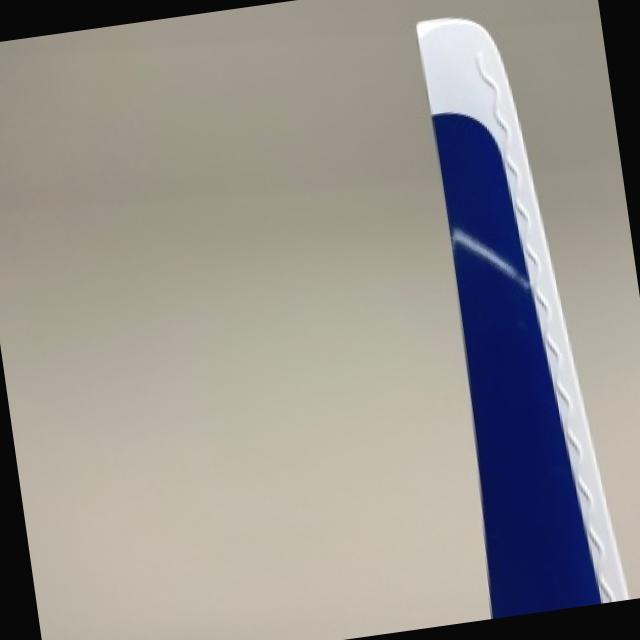healthy: (414, 16, 624, 617)
